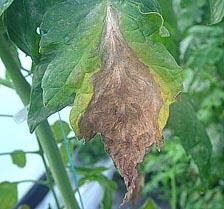Tomato mold leaf: (38, 4, 180, 207)
